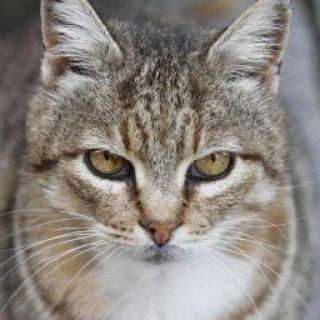cat: (20, 0, 298, 262)
nose: (136, 191, 188, 252)
